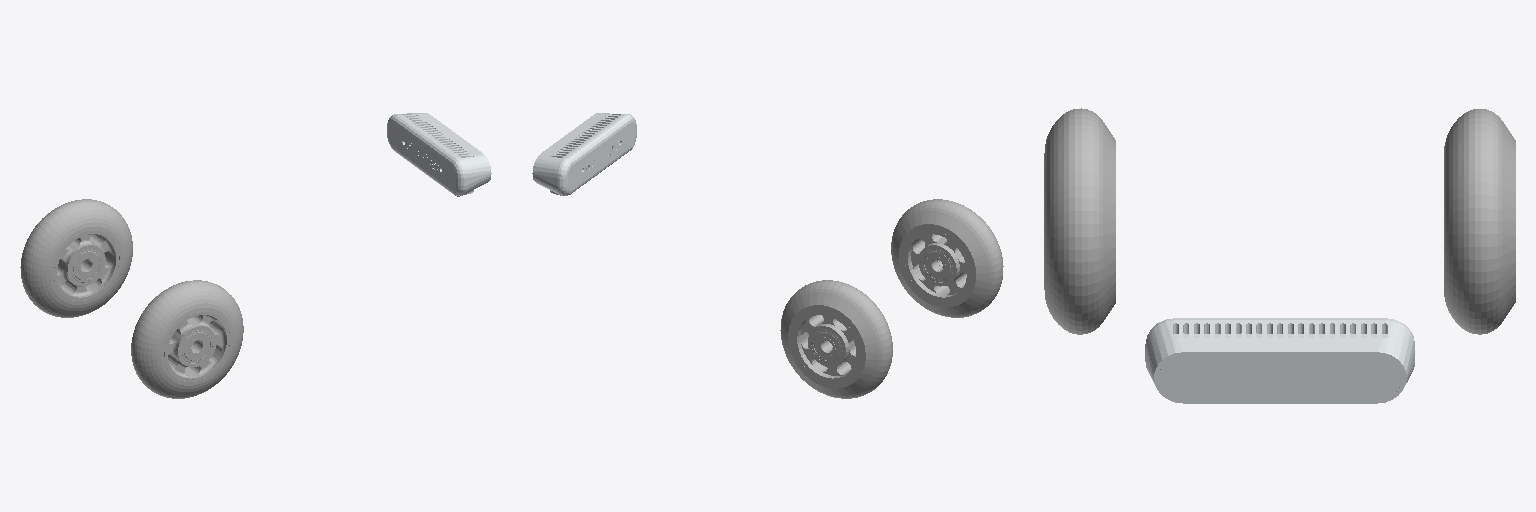
URDF robot description (URDF_screencast):
<?xml version="1.0" encoding="utf-8"?>
<!-- This URDF was automatically created by SolidWorks to URDF Exporter! Originally created by [author] ([email redacted]) 
     Commit Version: 1.6.0-4-g7f85cfe  Build Version: 1.6.7995.38578
     For more information, please see http://wiki.ros.org/sw_urdf_exporter -->
<robot
  name="URDF_screencast">
  <link
    name="base_link">
    <inertial>
      <origin
        xyz="-0.0017642733228333 -5.6329934469114E-05 0.0770235845273626"
        rpy="0 0 0" />
      <mass
        value="3.07038463834014" />
      <inertia
        ixx="0.00863202135084604"
        ixy="2.37027171135152E-06"
        ixz="0.000233055148347243"
        iyy="0.0124744870893606"
        iyz="1.18000432700231E-06"
        izz="0.0188059958141727" />
    </inertial>
    <visual>
      <origin
        xyz="0 0 0"
        rpy="0 0 0" />
      <geometry>
        <mesh
          filename="package://URDF_screencast/meshes/base_link.STL" />
      </geometry>
      <material
        name="">
        <color
          rgba="0.752941176470588 0.752941176470588 0.752941176470588 1" />
      </material>
    </visual>
    <collision>
      <origin
        xyz="0 0 0"
        rpy="0 0 0" />
      <geometry>
        <mesh
          filename="package://URDF_screencast/meshes/base_link.STL" />
      </geometry>
    </collision>
  </link>
  <link
    name="wheel_right_link">
    <inertial>
      <origin
        xyz="2.33309652426239E-05 -9.22209531656337E-09 5.8456388965511E-09"
        rpy="0 0 0" />
      <mass
        value="0.130245182159693" />
      <inertia
        ixx="8.05365251521701E-05"
        ixy="-3.01808617019978E-14"
        ixz="-4.76123297088506E-14"
        iyy="4.36249140012397E-05"
        iyz="-2.69218726630348E-11"
        izz="4.36249972638982E-05" />
    </inertial>
    <visual>
      <origin
        xyz="0 0 0"
        rpy="0 0 0" />
      <geometry>
        <mesh
          filename="package://URDF_screencast/meshes/wheel_right_link.STL" />
      </geometry>
      <material
        name="">
        <color
          rgba="0.752941176470588 0.752941176470588 0.752941176470588 1" />
      </material>
    </visual>
    <collision>
      <origin
        xyz="0 0 0"
        rpy="0 0 0" />
      <geometry>
        <mesh
          filename="package://URDF_screencast/meshes/wheel_right_link.STL" />
      </geometry>
    </collision>
  </link>
  <joint
    name="wheel_right_joint"
    type="continuous">
    <origin
      xyz="-0.090548 -0.067004 0.02275"
      rpy="0.47338 0 -1.5708" />
    <parent
      link="base_link" />
    <child
      link="wheel_right_link" />
    <axis
      xyz="1 0 0" />
  </joint>
  <link
    name="wheel_left_link">
    <inertial>
      <origin
        xyz="2.33309645137694E-05 -9.22218731935764E-09 5.84549375570731E-09"
        rpy="0 0 0" />
      <mass
        value="0.130245182159693" />
      <inertia
        ixx="8.05365251521701E-05"
        ixy="-3.01792043467775E-14"
        ixz="-4.76133826005344E-14"
        iyy="4.36249140013502E-05"
        iyz="-2.69218205251923E-11"
        izz="4.36249972637877E-05" />
    </inertial>
    <visual>
      <origin
        xyz="0 0 0"
        rpy="0 0 0" />
      <geometry>
        <mesh
          filename="package://URDF_screencast/meshes/wheel_left_link.STL" />
      </geometry>
      <material
        name="">
        <color
          rgba="0.752941176470588 0.752941176470588 0.752941176470588 1" />
      </material>
    </visual>
    <collision>
      <origin
        xyz="0 0 0"
        rpy="0 0 0" />
      <geometry>
        <mesh
          filename="package://URDF_screencast/meshes/wheel_left_link.STL" />
      </geometry>
    </collision>
  </link>
  <joint
    name="wheel_left_joint"
    type="continuous">
    <origin
      xyz="-0.090548 0.066996 0.02275"
      rpy="-0.084975 0 -1.5708" />
    <parent
      link="base_link" />
    <child
      link="wheel_left_link" />
    <axis
      xyz="1 0 0" />
  </joint>
  <link
    name="depth_camera_link">
    <inertial>
      <origin
        xyz="1.12655780192643E-05 -0.000136108278217612 0.0115559791566729"
        rpy="0 0 0" />
      <mass
        value="0.107910427126061" />
      <inertia
        ixx="7.71002120976479E-06"
        ixy="2.48356679437092E-10"
        ixz="-1.7847192021439E-08"
        iyy="7.02567375008718E-05"
        iyz="4.9297867590205E-08"
        izz="7.12550266296851E-05" />
    </inertial>
    <visual>
      <origin
        xyz="0 0 0"
        rpy="0 0 0" />
      <geometry>
        <mesh
          filename="package://URDF_screencast/meshes/depth_camera_link.STL" />
      </geometry>
      <material
        name="">
        <color
          rgba="0.898039215686275 0.917647058823529 0.929411764705882 1" />
      </material>
    </visual>
    <collision>
      <origin
        xyz="0 0 0"
        rpy="0 0 0" />
      <geometry>
        <mesh
          filename="package://URDF_screencast/meshes/depth_camera_link.STL" />
      </geometry>
    </collision>
  </link>
  <joint
    name="depth_camera_joint"
    type="fixed">
    <origin
      xyz="0.11245 0.00010922 0.070774"
      rpy="1.5708 0 1.5708" />
    <parent
      link="base_link" />
    <child
      link="depth_camera_link" />
    <axis
      xyz="0 0 0" />
  </joint>
  <link
    name="pi_camera_link">
    <inertial>
      <origin
        xyz="0.000337912165863669 0.000150593967962229 -0.006726918044395"
        rpy="0 0 0" />
      <mass
        value="0.000977728280154443" />
      <inertia
        ixx="3.01123207336753E-08"
        ixy="-1.2838710838052E-10"
        ixz="-2.9162936418022E-11"
        iyy="2.22772609678264E-08"
        iyz="1.2937440157145E-11"
        izz="5.16376001127451E-08" />
    </inertial>
    <visual>
      <origin
        xyz="0 0 0"
        rpy="0 0 0" />
      <geometry>
        <mesh
          filename="package://URDF_screencast/meshes/pi_camera_link.STL" />
      </geometry>
      <material
        name="">
        <color
          rgba="0.792156862745098 0.819607843137255 0.933333333333333 1" />
      </material>
    </visual>
    <collision>
      <origin
        xyz="0 0 0"
        rpy="0 0 0" />
      <geometry>
        <mesh
          filename="package://URDF_screencast/meshes/pi_camera_link.STL" />
      </geometry>
    </collision>
  </link>
  <joint
    name="pi_camera_joint"
    type="fixed">
    <origin
      xyz="0.084298 0.00083092 0.12465"
      rpy="0 0 -1.5648" />
    <parent
      link="base_link" />
    <child
      link="pi_camera_link" />
    <axis
      xyz="0 0 0" />
  </joint>
</robot>

--- What the picture shows (computed from the rendered views, not written in the file) ---
Views: 3 orthographic renders of the robot side by side, from view 1: azimuth 30°, elevation 25°; view 2: azimuth 150°, elevation 25°; view 3: azimuth 270°, elevation 25°.
Robot: URDF_screencast — 5 links, 4 joints (2 continuous, 2 fixed); root link base_link; default pose: every joint at zero.
Visible links, largest first — view 1: wheel_right_link, wheel_left_link, depth_camera_link; view 2: wheel_right_link, wheel_left_link, depth_camera_link; view 3: depth_camera_link, wheel_left_link, wheel_right_link.
Link boxes in pixels (x1=…): wheel_right_link: x1=131, y1=280, x2=243, y2=398; wheel_left_link: x1=20, y1=199, x2=132, y2=317; depth_camera_link: x1=387, y1=113, x2=491, y2=196; wheel_right_link: x1=891, y1=199, x2=1003, y2=317; wheel_left_link: x1=780, y1=280, x2=892, y2=398; depth_camera_link: x1=532, y1=113, x2=636, y2=195; depth_camera_link: x1=1145, y1=318, x2=1414, y2=403; wheel_left_link: x1=1444, y1=109, x2=1515, y2=334; wheel_right_link: x1=1044, y1=108, x2=1115, y2=334.
Size in the robot's own frame: 0.265 by 0.158 by 0.0983 metres.
Meshes: 5 distinct files referenced, 3 mesh visuals loaded (3 binary STL); not drawn: 2 (reference not matched to a file when rendering).